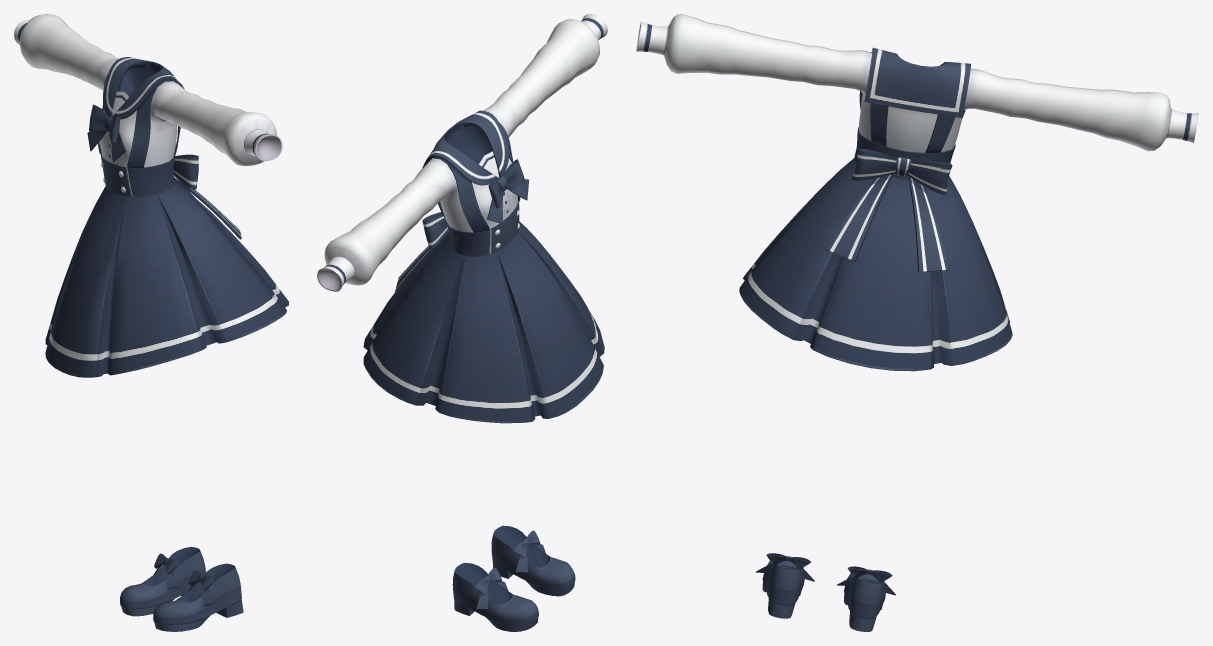
The model's file is Sailor-dress_Full.fbx.
The picture shows the model from 3 angles, left to right: view 1: azimuth 30°, elevation 25°; view 2: azimuth 150°, elevation 25°; view 3: azimuth 270°, elevation 25°; orthographic projection. The views are drawn at different scales.
Visible parts, largest first — view 1: Wear, Shoes, Suspenders, Ribbon_B, Ribbon_A; view 2: Wear, Shoes, Suspenders, Ribbon_A, Ribbon_B; view 3: Wear, Ribbon_B, Shoes, Suspenders.
Boxes of the visible parts, <box> form: Wear: <box>14,14,288,377</box>; Shoes: <box>120,546,243,631</box>; Suspenders: <box>98,74,180,167</box>; Ribbon_B: <box>173,154,241,239</box>; Ribbon_A: <box>87,104,125,161</box>; Wear: <box>317,14,607,423</box>; Shoes: <box>452,525,575,631</box>; Suspenders: <box>426,122,520,232</box>; Ribbon_A: <box>487,159,529,223</box>; Ribbon_B: <box>394,212,449,294</box>; Wear: <box>636,14,1198,371</box>; Ribbon_B: <box>825,148,952,272</box>; Shoes: <box>756,553,895,631</box>; Suspenders: <box>859,52,965,152</box>.
Bounding box in the file's own units: 0.4175 × 1.04 × 0.8849.
